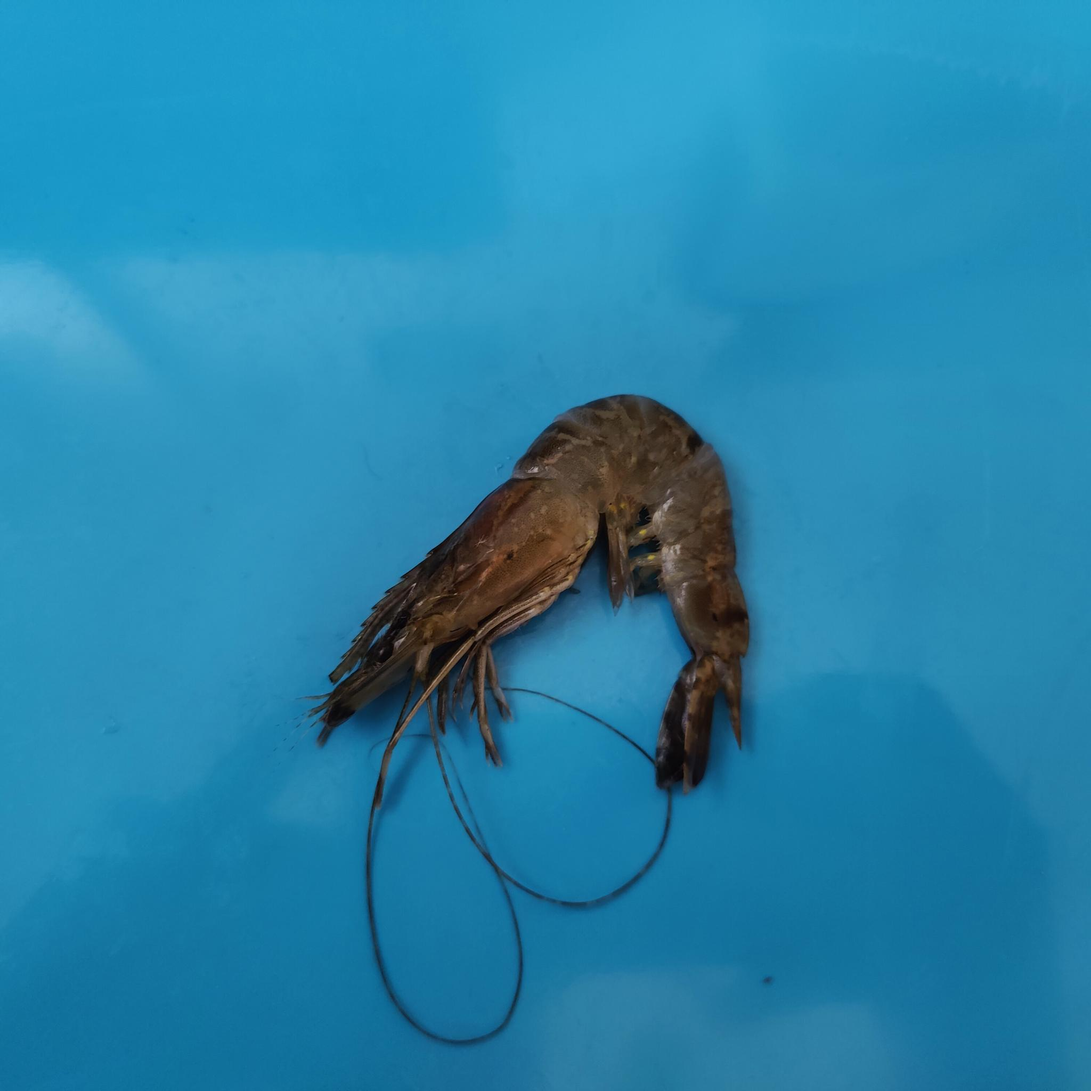whitespot: (471, 475, 592, 584), (561, 434, 642, 498)
